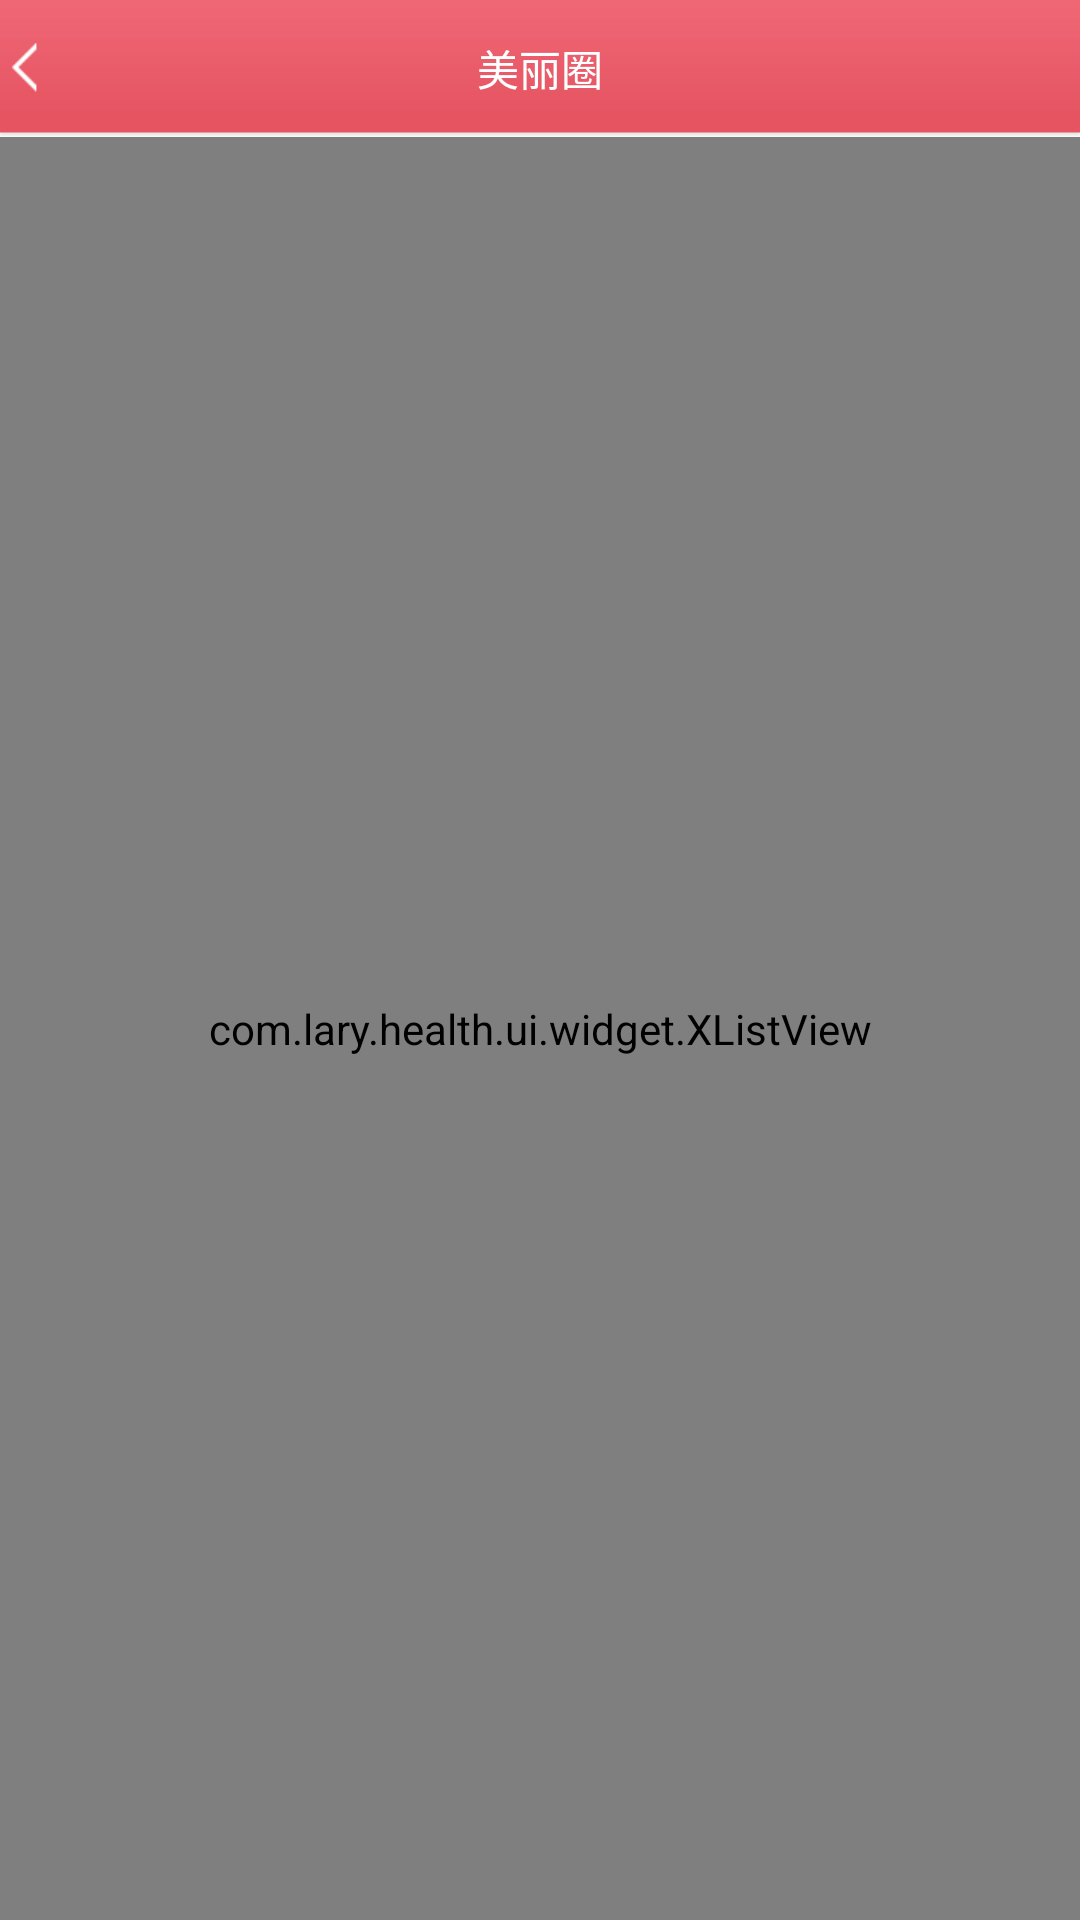

Named icons in this screenshot (1080 × 1920) and their centers, [x,y]:
back: [24,67]
